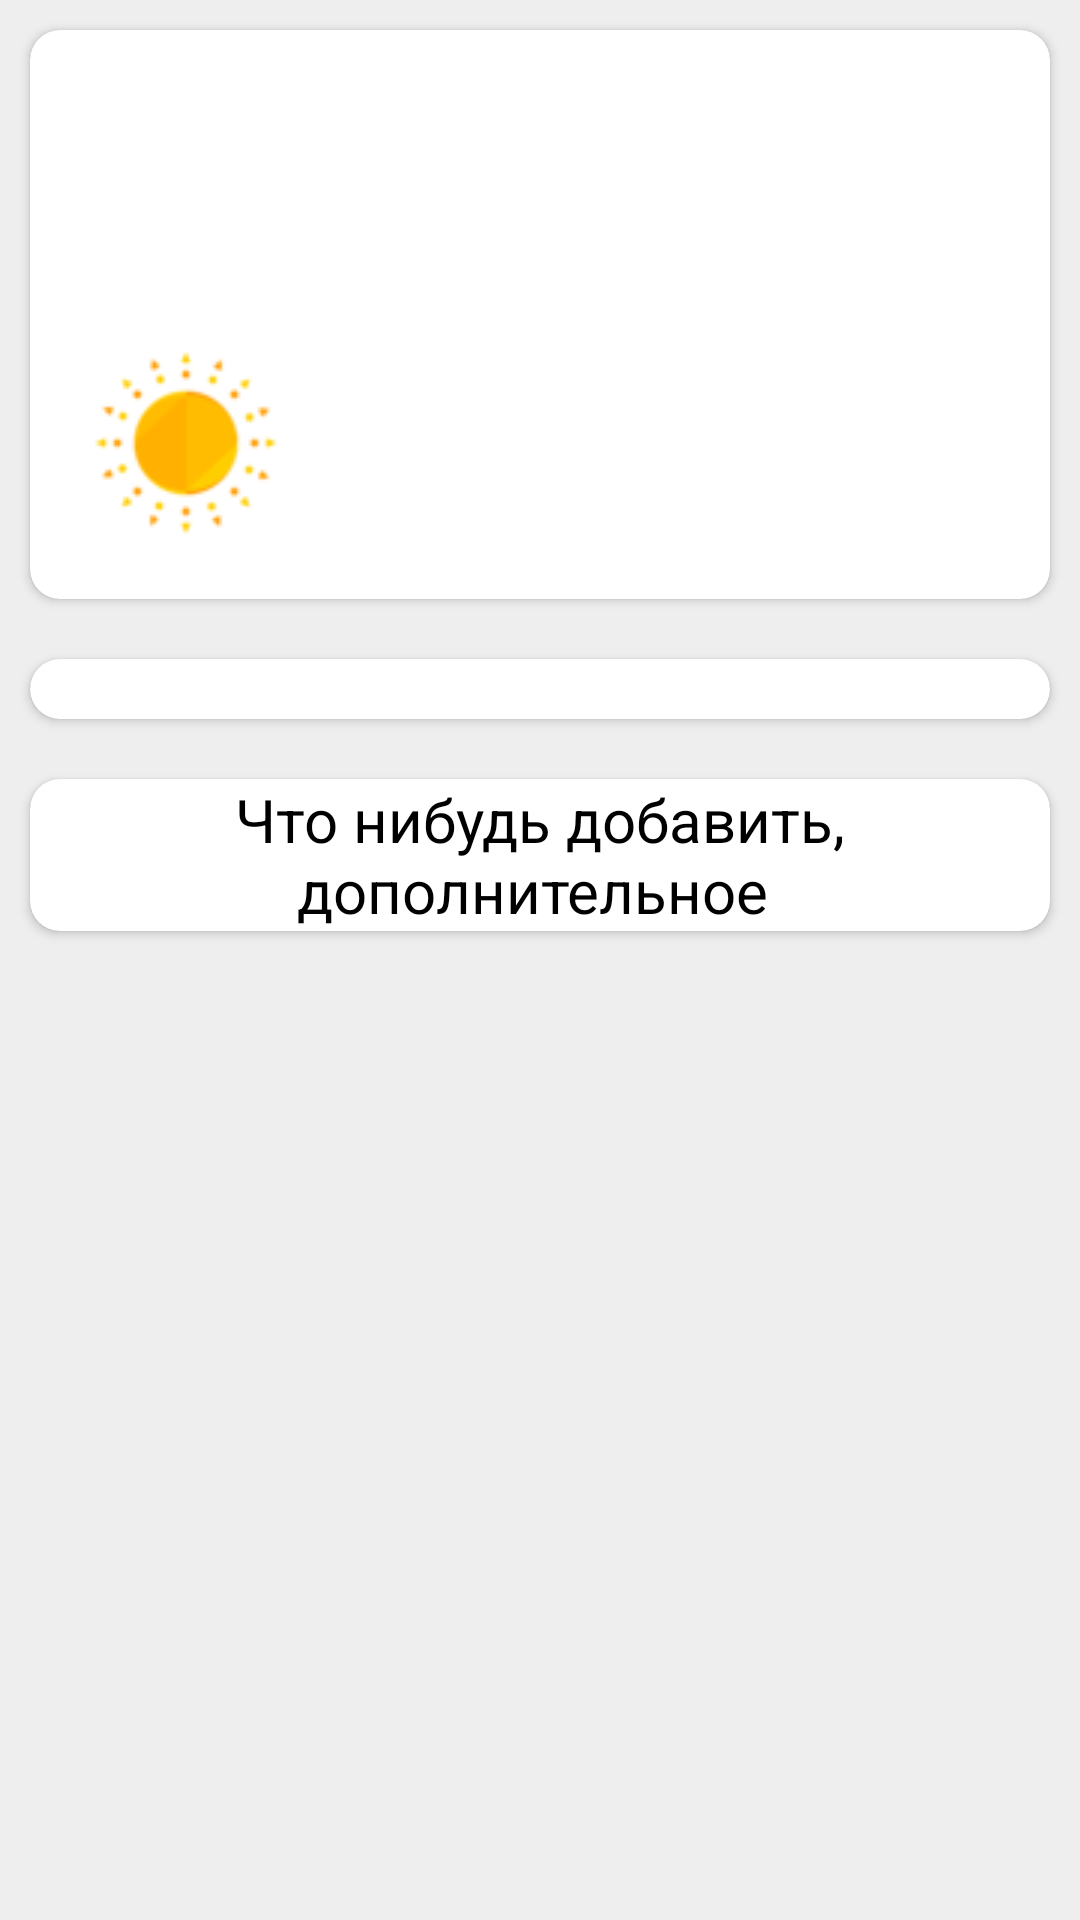

Locate icon controls on the screen. Image size 1080px x 1920px, boxes as (x1, y1, x2, y2).
sun: (95, 352, 277, 534)
